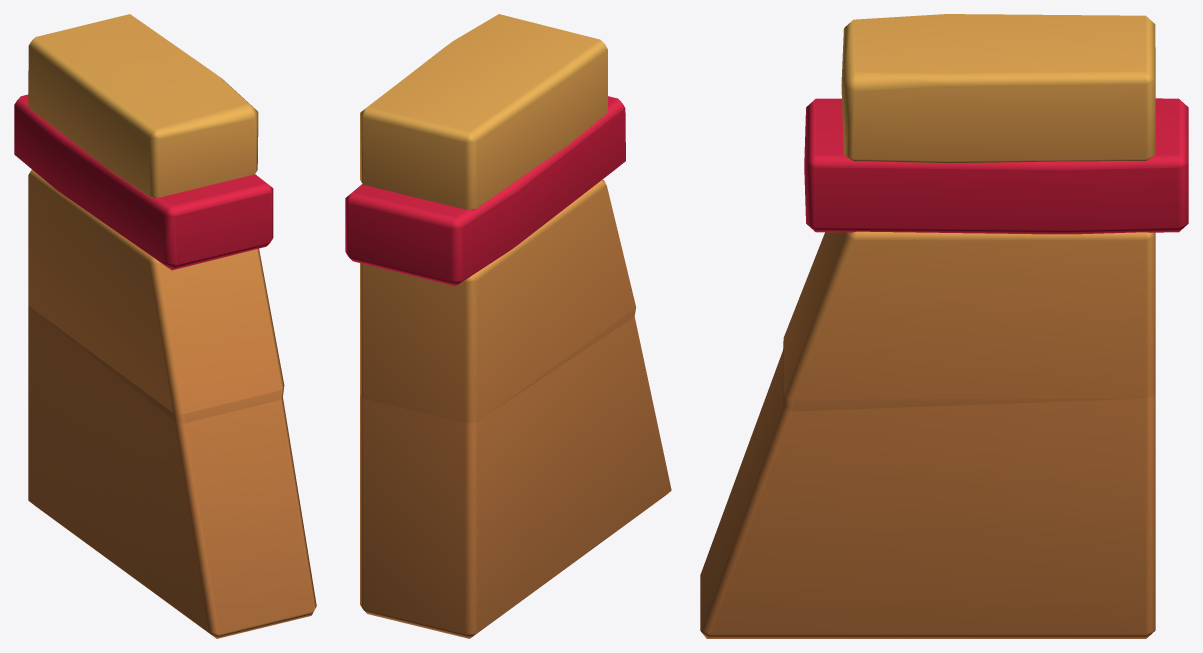
Rendered from wall_deco_3.fbx.
3 renders of one model, left to right at view 1: azimuth 30°, elevation 25°; view 2: azimuth 150°, elevation 25°; view 3: azimuth 270°, elevation 25°, orthographic. The views are drawn at different scales.
Parts seen in each view (by area): view 1: wall_deco_3; view 2: wall_deco_3; view 3: wall_deco_3.
Boxes of the visible parts, x1,y1,x2,y2 form: wall_deco_3: (14, 14, 316, 638); wall_deco_3: (345, 14, 671, 638); wall_deco_3: (700, 14, 1188, 638).
Size of the model in its own units: 109 by 414 by 323.
